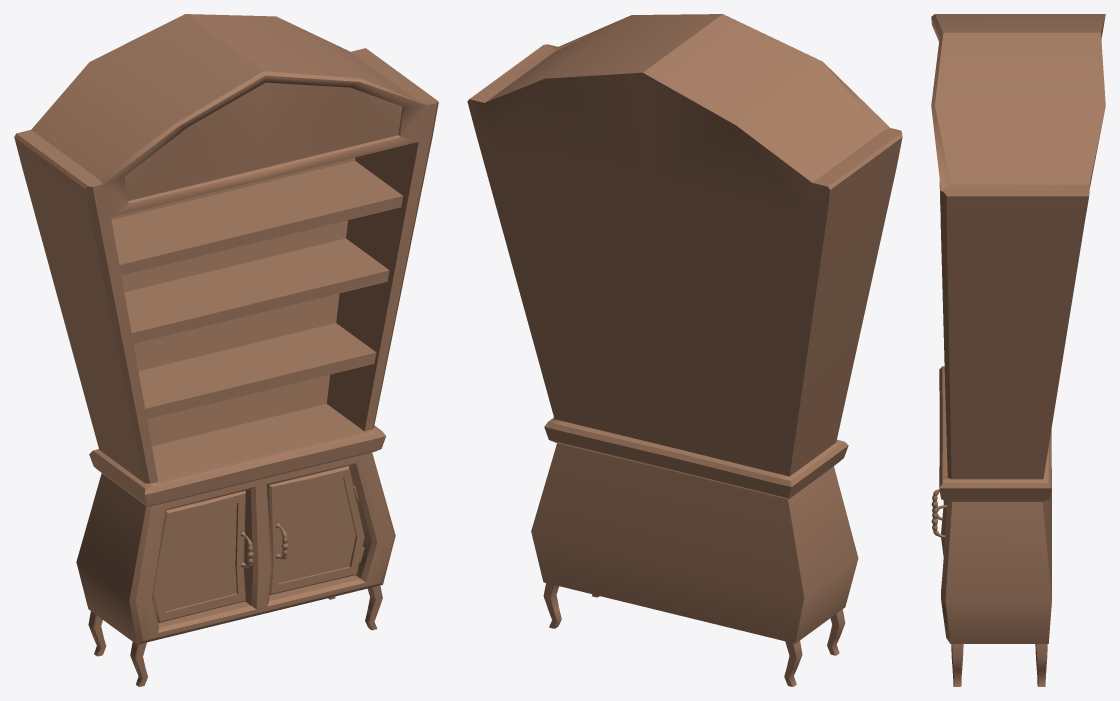
The model's file is Sm_Armoire_04.fbx.
3 views of the same model, side by side, from view 1: azimuth 30°, elevation 25°; view 2: azimuth 150°, elevation 25°; view 3: azimuth 270°, elevation 25° (orthographic). The views are drawn at different scales.
Parts seen in each view (by area): view 1: SM_Armoire_04, SM_Porte_01_Armoire_05, SM_Porte_01_Armoire_04; view 2: SM_Armoire_04; view 3: SM_Armoire_04.
Boxes of the visible parts, x1,y1,x2,y2 form: SM_Armoire_04: (14, 14, 438, 686); SM_Porte_01_Armoire_05: (267, 466, 364, 594); SM_Porte_01_Armoire_04: (153, 490, 253, 622); SM_Armoire_04: (467, 14, 902, 686); SM_Armoire_04: (931, 14, 1105, 686).
Bounding box in the file's own units: 2.59 × 4.13 × 1.1.
